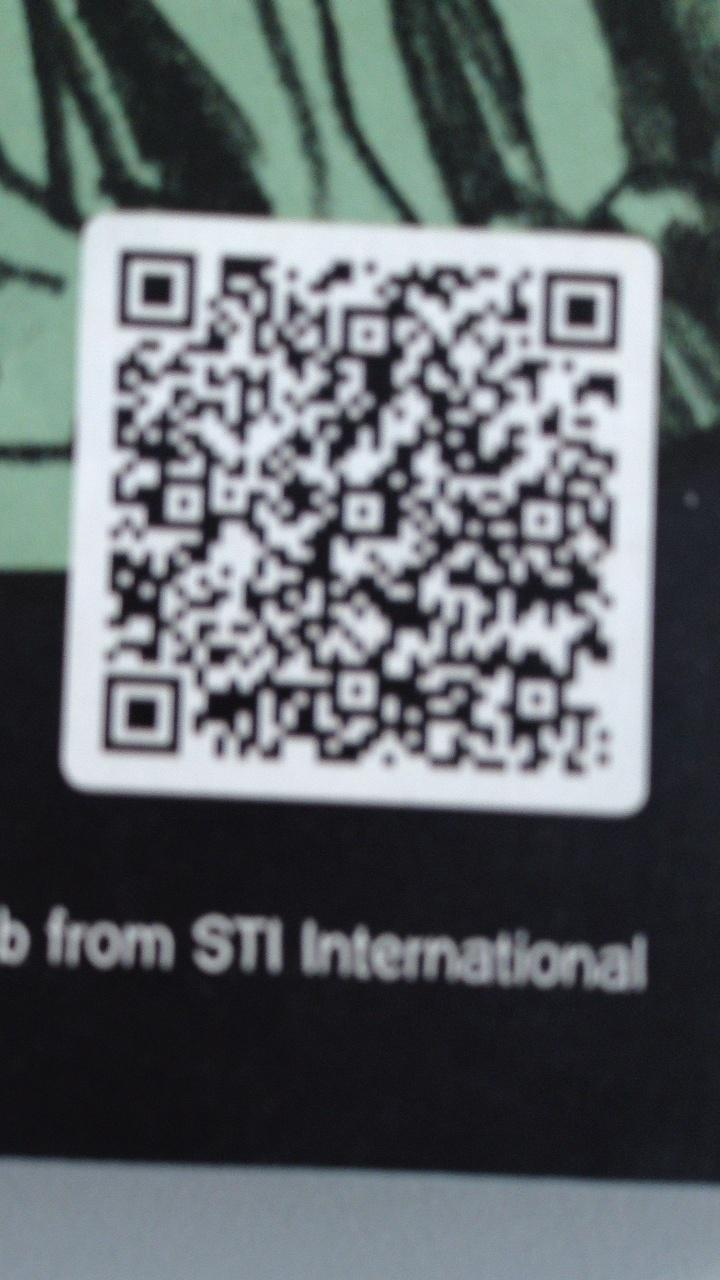Finder pattern: (90, 664, 191, 765), (106, 243, 207, 338), (533, 268, 627, 356)
